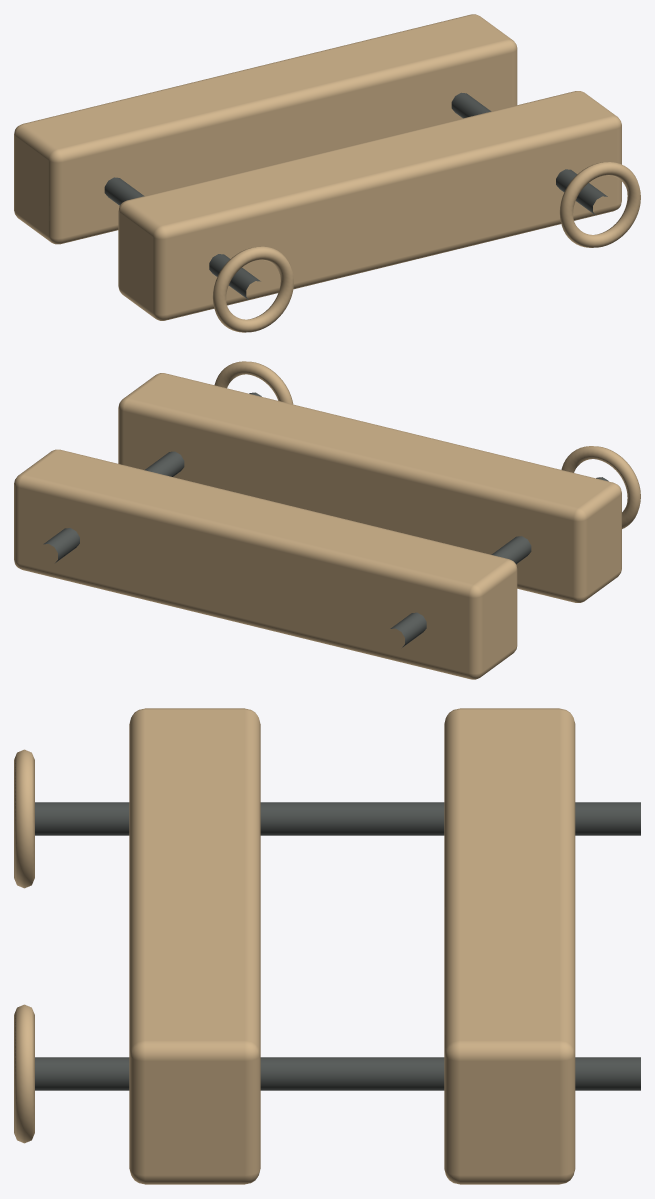
File: bookbinding-and-paper-mill-laying-press-28a2ee96__30563.glb
The picture shows the model from 3 angles, top to bottom: view 1: azimuth 30°, elevation 25°; view 2: azimuth 150°, elevation 25°; view 3: azimuth 270°, elevation 25°; orthographic projection. The views are drawn at different scales.
Parts seen in each view (by area): view 1: laying-press; view 2: laying-press; view 3: laying-press.
Part boxes in pixels (left/top/right/bottom): laying-press: left=14, top=14, right=640, bottom=332; laying-press: left=14, top=361, right=640, bottom=679; laying-press: left=14, top=708, right=640, bottom=1184.
Size of the model in its own units: 0.62 by 0.12 by 0.478.
